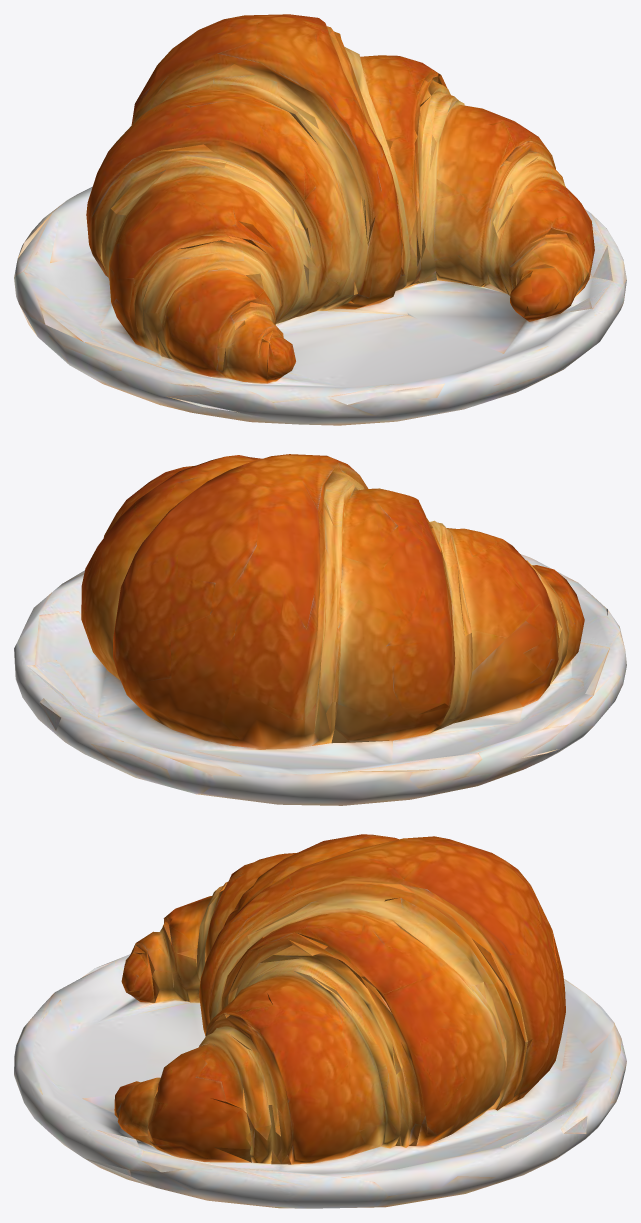
Rendered from croissant.gltf.
The picture shows the model from 3 angles, top to bottom: view 1: azimuth 30°, elevation 25°; view 2: azimuth 150°, elevation 25°; view 3: azimuth 270°, elevation 25°; orthographic projection.
Visible parts, largest first — view 1: croissant; view 2: croissant; view 3: croissant.
Boxes of the visible parts, bbox=[...] form: croissant: bbox=[14, 14, 626, 425]; croissant: bbox=[14, 454, 626, 805]; croissant: bbox=[14, 834, 626, 1208].
Size of the model in its own units: 1 by 0.4377 by 0.9996.
1 material, 1 textured.
